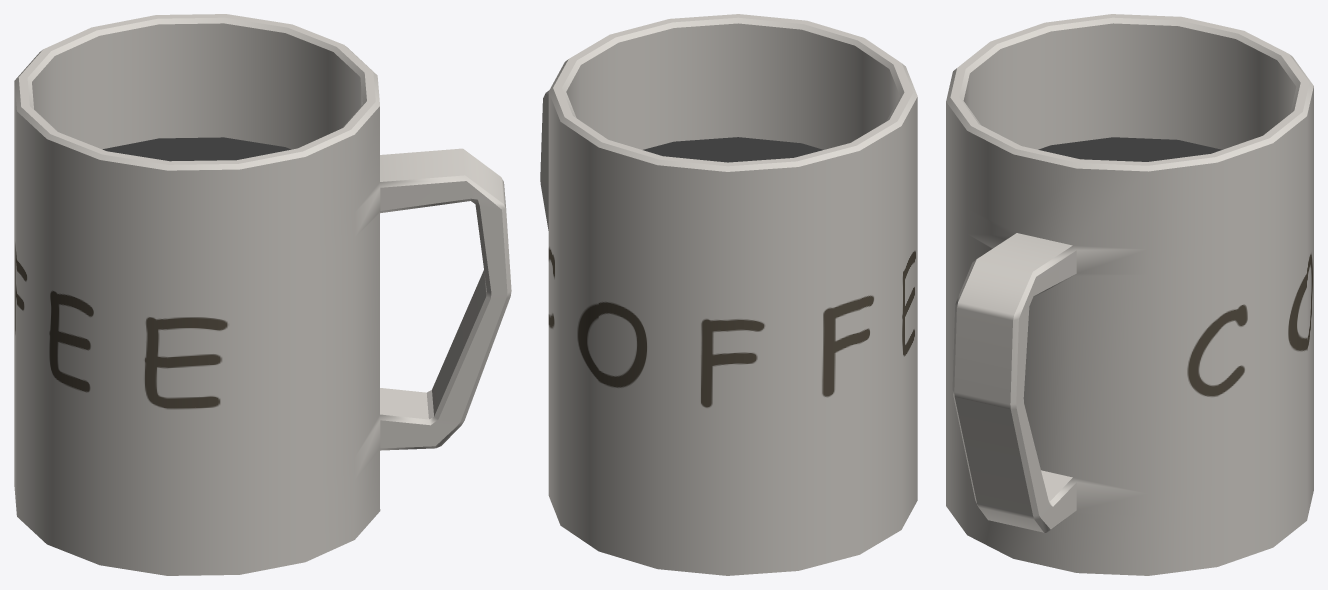
File: cup.fbx
3 views of the same model, side by side, from view 1: azimuth 30°, elevation 25°; view 2: azimuth 150°, elevation 25°; view 3: azimuth 270°, elevation 25° (orthographic).
Visible parts, largest first — view 1: cup; view 2: cup; view 3: cup.
Boxes of the visible parts, x1,y1,x2,y2 form: cup: (14, 14, 511, 575); cup: (540, 14, 917, 575); cup: (946, 14, 1313, 575).
Bounding box in the file's own units: 0.204 × 0.1937 × 0.1581.
